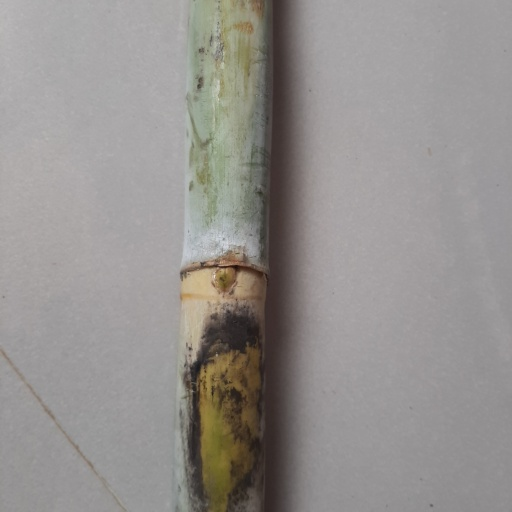Bud: (209, 265, 240, 295)
